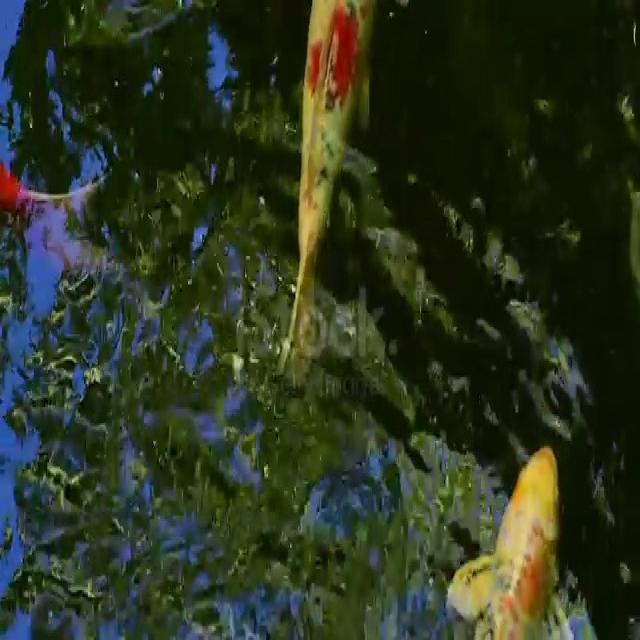fish: (276, 0, 377, 361), (446, 442, 582, 640)
